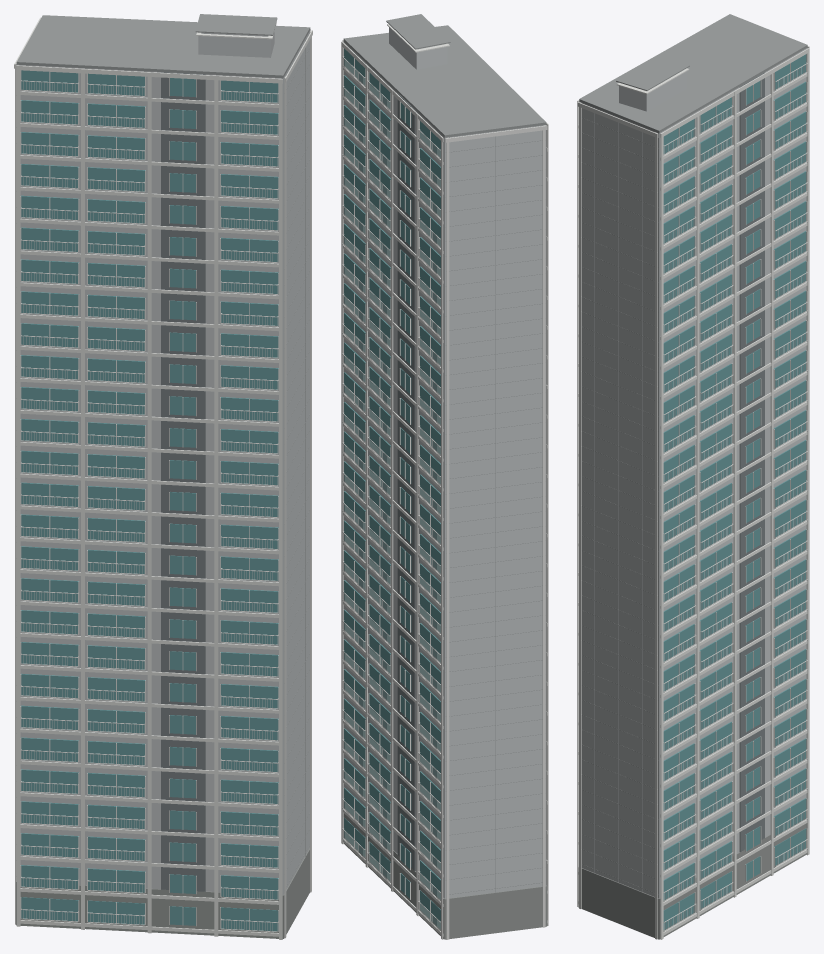
File: bespoke-jamsil-ricenz-221.glb
3 views of the same model, side by side, from view 1: azimuth 30°, elevation 25°; view 2: azimuth 150°, elevation 25°; view 3: azimuth 270°, elevation 25° (orthographic). The views are drawn at different scales.
Parts seen in each view (by area): view 1: Ricenz221_editable_Ricenz221_turquoise_balcony_glazing, Ricenz221_editable_Ricenz221_light_grey_solid_wall, Ricenz221_white_exact_chunk_0, Ricenz221_white_exact_chunk_1, Ricenz221_editable_Ricenz221_narrow_charcoal_service_strips, Ricenz221_editable_Ricenz221_modest_grey_flat_roof_caps, Ricenz221_editable_Ricenz221_muted_ground_wall, Ricenz221_white_exact_chunk_2; view 2: Ricenz221_editable_Ricenz221_light_grey_solid_wall, Ricenz221_editable_Ricenz221_turquoise_balcony_glazing, Ricenz221_white_exact_chunk_2, Ricenz221_white_exact_chunk_1, Ricenz221_editable_Ricenz221_modest_grey_flat_roof_caps, Ricenz221_editable_Ricenz221_narrow_charcoal_service_strips, Ricenz221_editable_Ricenz221_muted_ground_wall; view 3: Ricenz221_editable_Ricenz221_light_grey_solid_wall, Ricenz221_editable_Ricenz221_turquoise_balcony_glazing, Ricenz221_white_exact_chunk_2, Ricenz221_white_exact_chunk_1, Ricenz221_editable_Ricenz221_modest_grey_flat_roof_caps, Ricenz221_editable_Ricenz221_narrow_charcoal_service_strips, Ricenz221_editable_Ricenz221_muted_ground_wall.
Boxes of the visible parts, x1,y1,x2,y2 form: Ricenz221_editable_Ricenz221_turquoise_balcony_glazing: (21, 70, 278, 931); Ricenz221_editable_Ricenz221_light_grey_solid_wall: (17, 30, 310, 894); Ricenz221_white_exact_chunk_0: (20, 70, 278, 936); Ricenz221_white_exact_chunk_1: (16, 30, 312, 939); Ricenz221_editable_Ricenz221_narrow_charcoal_service_strips: (161, 72, 205, 891); Ricenz221_editable_Ricenz221_modest_grey_flat_roof_caps: (16, 14, 310, 890); Ricenz221_editable_Ricenz221_muted_ground_wall: (16, 848, 309, 938); Ricenz221_white_exact_chunk_2: (14, 17, 310, 924); Ricenz221_editable_Ricenz221_light_grey_solid_wall: (343, 27, 546, 898); Ricenz221_editable_Ricenz221_turquoise_balcony_glazing: (344, 48, 440, 929); Ricenz221_white_exact_chunk_2: (341, 24, 547, 939); Ricenz221_white_exact_chunk_1: (342, 27, 548, 925); Ricenz221_editable_Ricenz221_modest_grey_flat_roof_caps: (343, 14, 546, 894); Ricenz221_editable_Ricenz221_narrow_charcoal_service_strips: (397, 93, 415, 870); Ricenz221_editable_Ricenz221_muted_ground_wall: (343, 808, 547, 939); Ricenz221_editable_Ricenz221_light_grey_solid_wall: (579, 47, 807, 898); Ricenz221_editable_Ricenz221_turquoise_balcony_glazing: (663, 54, 806, 929); Ricenz221_white_exact_chunk_2: (616, 46, 809, 939); Ricenz221_white_exact_chunk_1: (577, 100, 734, 939); Ricenz221_editable_Ricenz221_modest_grey_flat_roof_caps: (579, 14, 807, 893); Ricenz221_editable_Ricenz221_narrow_charcoal_service_strips: (739, 72, 764, 852); Ricenz221_editable_Ricenz221_muted_ground_wall: (578, 818, 806, 939).
Size of the model in its own units: 25.28 by 82.73 by 20.99.
